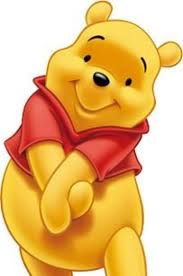Winnie: (24, 2, 183, 144)
